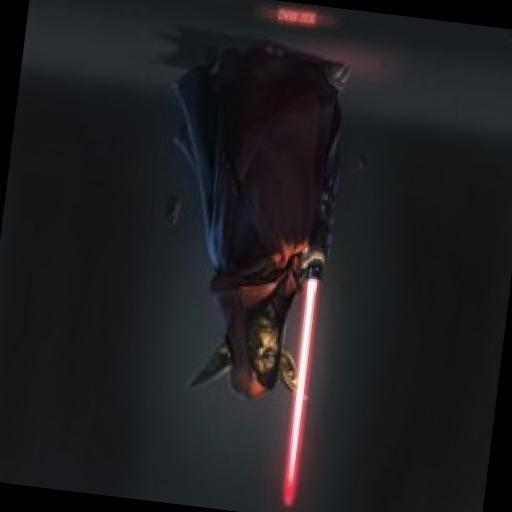sith saber: (277, 219, 332, 506)
